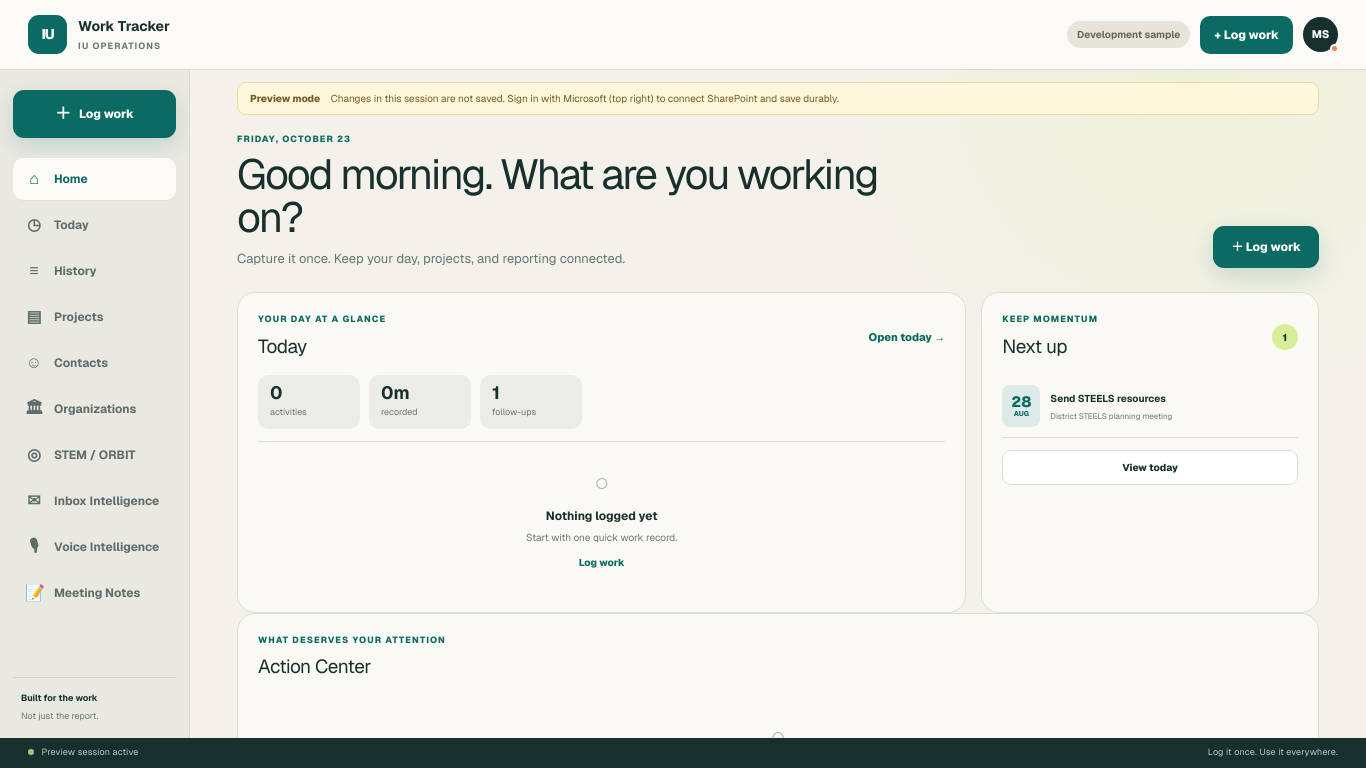
Scenario: Relationship Snapshot, Connected Projects, and Recent Work (derived) › renders connected time, work record count, last interaction, connected project names, and recent work newest-first
This screenshot has width=1366, height=768.
Click the button "☺ Contacts".
click(94, 363)  # box left=13, top=342, right=176, bottom=384
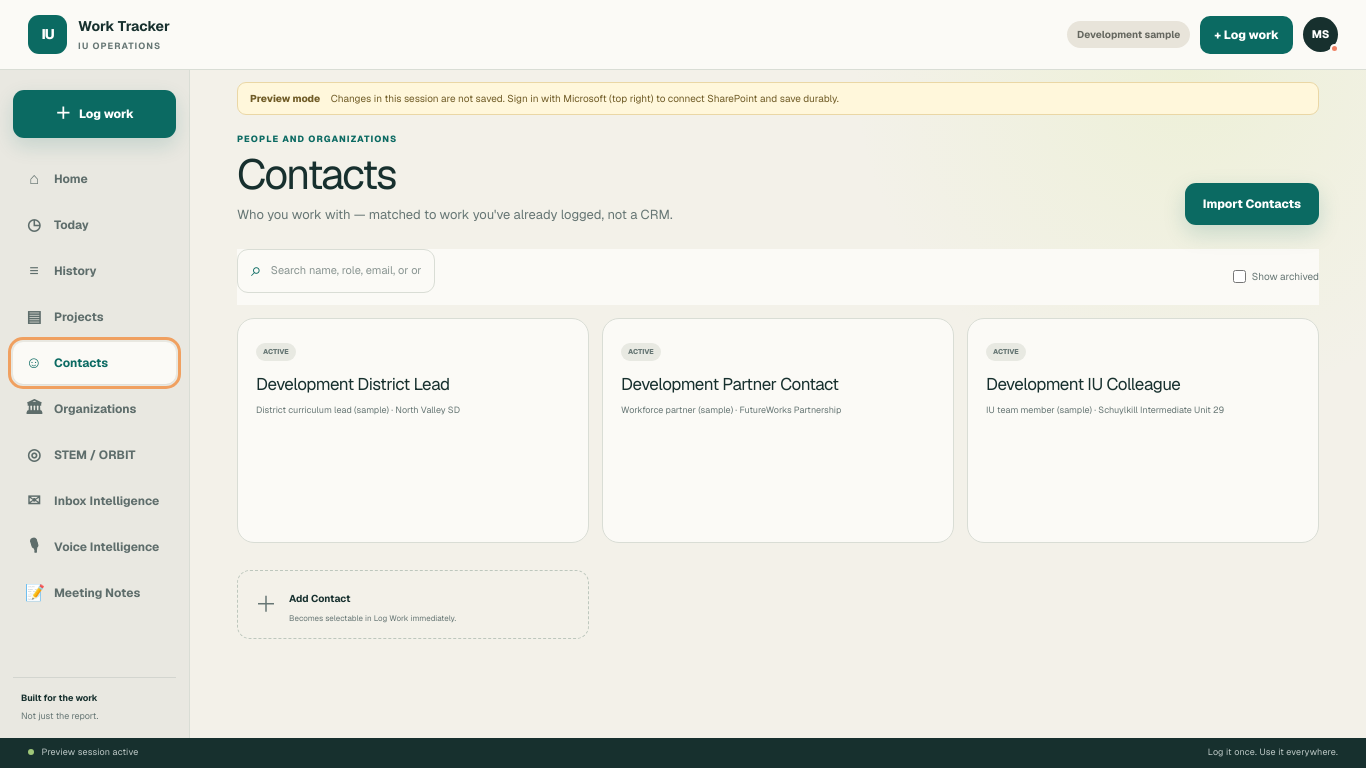
Click the button "Development District Lead".
click(413, 377)  # box left=256, top=337, right=570, bottom=417
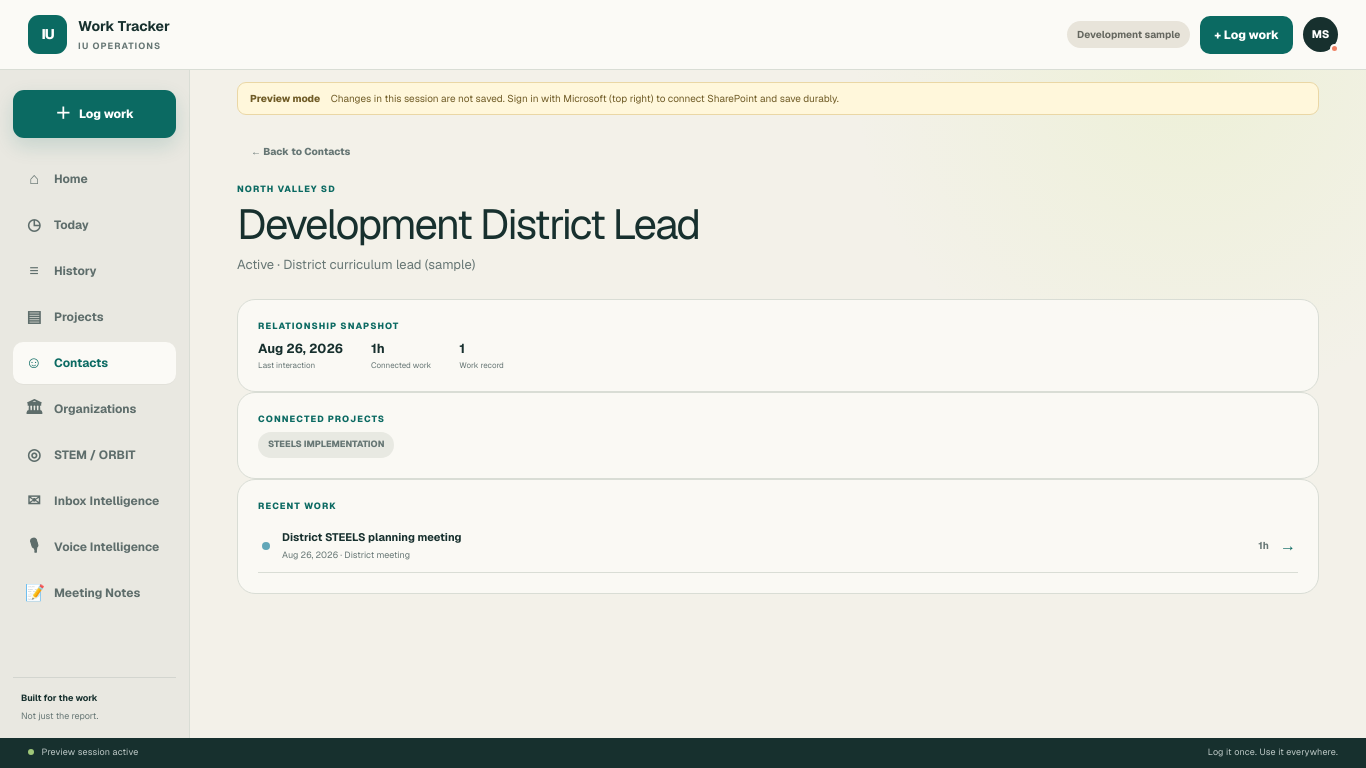
Now the text "Aug 26, 2026" is shown, box left=258, top=339, right=343, bottom=359
Now the text "1h" below "Relationship snapshot" is shown, box left=371, top=340, right=385, bottom=357
Now the text "1" is shown, box left=459, top=340, right=465, bottom=357
